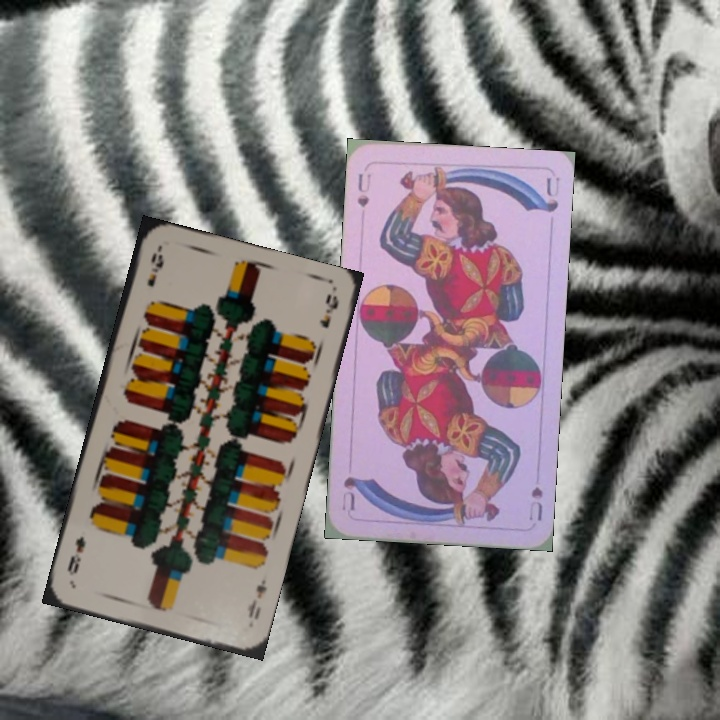E9: (243, 575, 270, 622), (143, 245, 166, 290)
SU: (524, 483, 545, 523), (353, 169, 373, 210)
